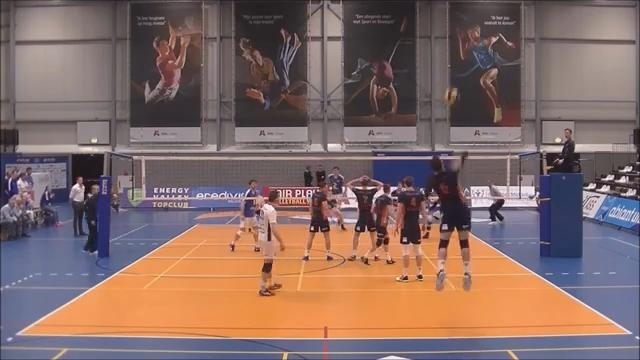Player: (394, 176, 425, 282), (346, 176, 382, 260), (256, 190, 284, 295), (361, 184, 394, 264), (302, 181, 333, 261), (230, 180, 259, 251), (327, 166, 345, 229), (423, 184, 439, 238), (328, 194, 346, 230)
Serve: (420, 145, 473, 289)
ball: (444, 88, 462, 106)
